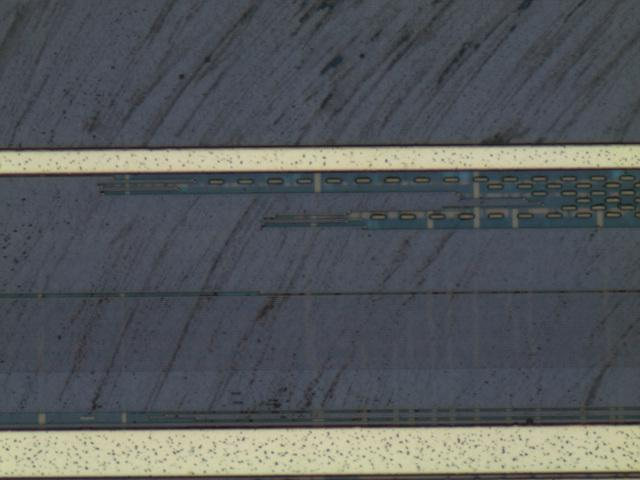SCRATCH: (1, 2, 640, 434)
